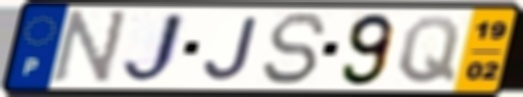9: (337, 11, 401, 88)
J: (118, 10, 190, 87), (200, 15, 263, 84)
N: (47, 8, 132, 87)
Q: (395, 14, 463, 86)
S: (259, 11, 331, 87)
